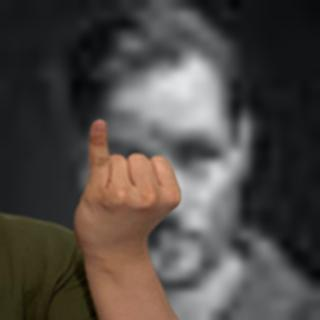FINE: (69, 114, 185, 259)
